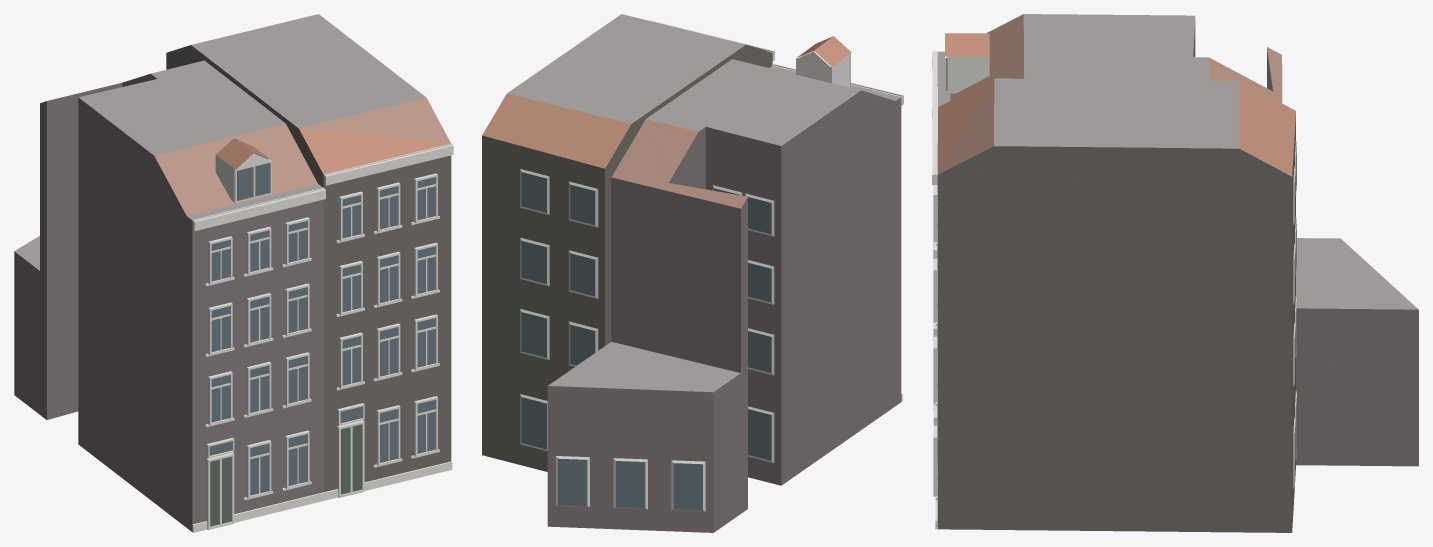
The model's file is chunk-face-egelantiersgracht-3-43-h1.glb.
The picture shows the model from 3 angles, left to right: view 1: azimuth 30°, elevation 25°; view 2: azimuth 150°, elevation 25°; view 3: azimuth 270°, elevation 25°; orthographic projection. The views are drawn at different scales.
Parts seen in each view (by area): view 1: face-egelantiersgracht-3-43-h1; view 2: face-egelantiersgracht-3-43-h1; view 3: face-egelantiersgracht-3-43-h1.
Part boxes in pixels (x1,y1,x2,y2): face-egelantiersgracht-3-43-h1: (14,14,453,532); face-egelantiersgracht-3-43-h1: (482,14,903,532); face-egelantiersgracht-3-43-h1: (932,14,1418,532).
Size of the model in its own units: 10.68 by 13.84 by 15.54.
